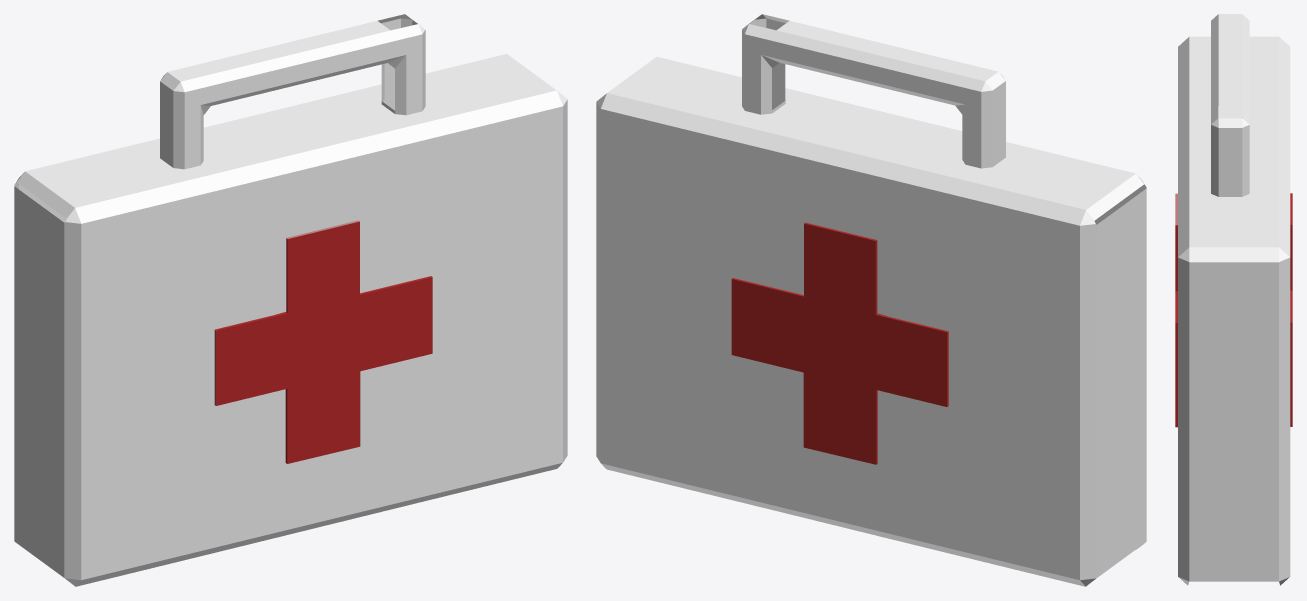
File: medical.FBX
3 renders of one model, left to right at view 1: azimuth 30°, elevation 25°; view 2: azimuth 150°, elevation 25°; view 3: azimuth 270°, elevation 25°, orthographic. The views are drawn at different scales.
Visible parts, largest first — view 1: Box003; view 2: Box003; view 3: Box003.
Part boxes in pixels (<box>): Box003: <box>14,14,567,586</box>; Box003: <box>596,14,1146,586</box>; Box003: <box>1175,14,1292,585</box>.
Bounding box in the file's own units: 104 × 91.6 × 23.47.
1 material, 1 textured.
